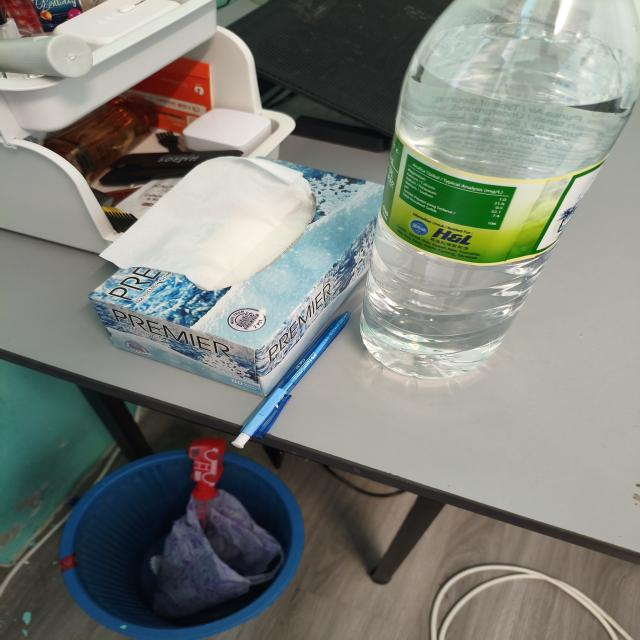pen: (232, 312, 350, 448)
